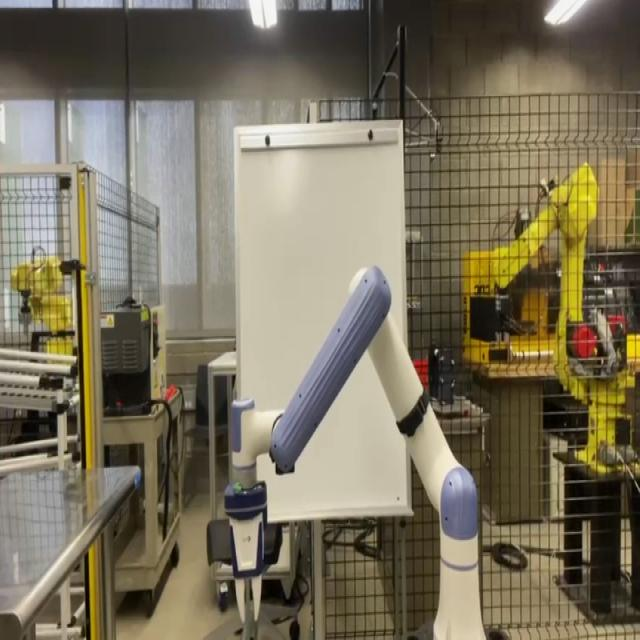robot: (207, 262, 509, 638)
